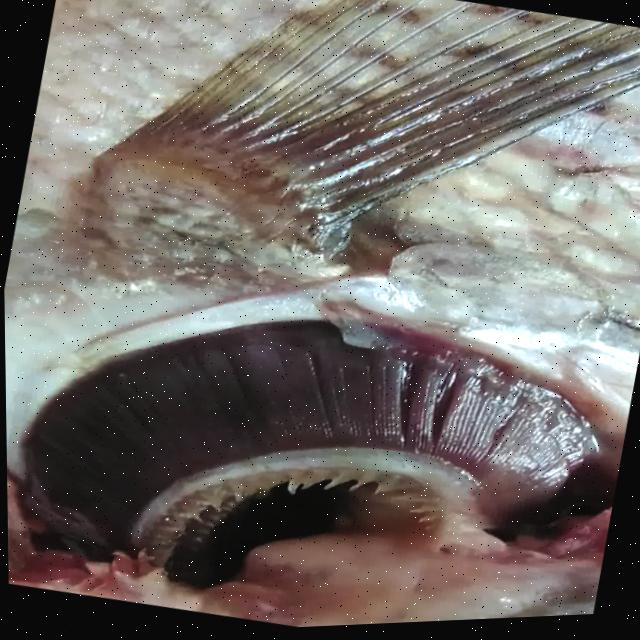Non-Fresh: (6, 234, 637, 640)
